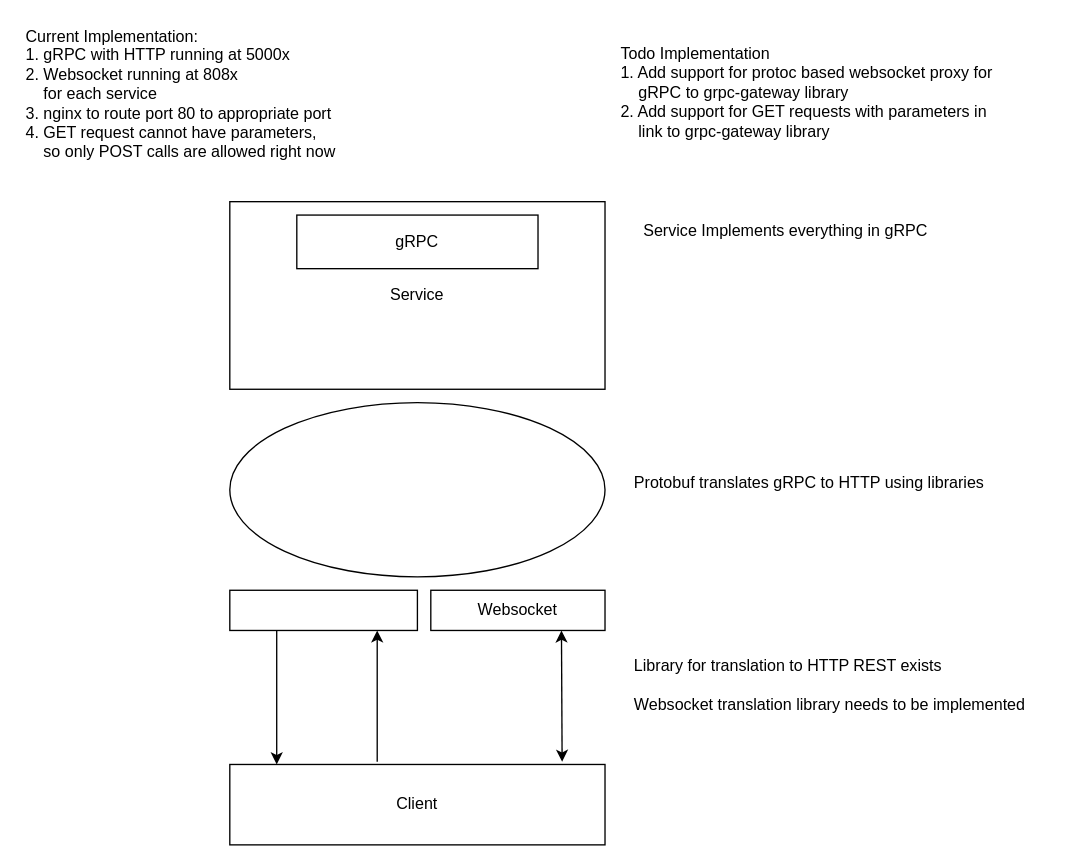
The diagram is 1069 pixels wide and 868 high, and some of its shapes have lost their labels. Here are the shapes that lost their labels. From the top down, the centre of each, then its label:
the point at 416,489: Protobuf
the point at 322,609: HTTP REST
